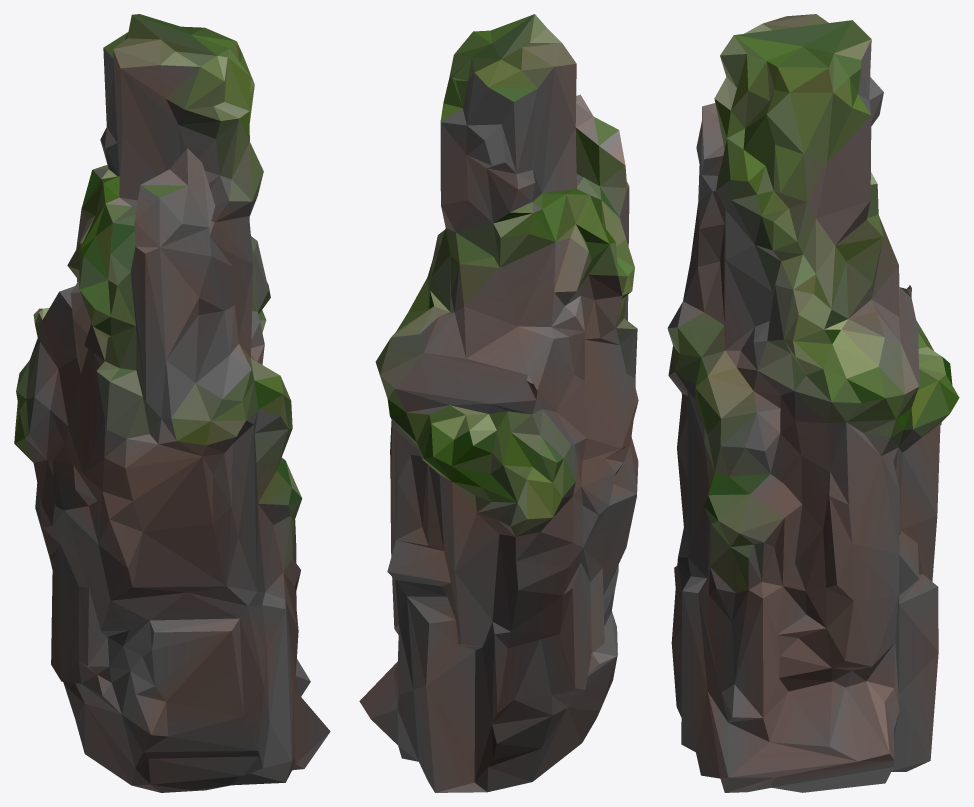
File: Spire_C-Foliage.fbx
The picture shows the model from 3 angles, left to right: view 1: azimuth 30°, elevation 25°; view 2: azimuth 150°, elevation 25°; view 3: azimuth 270°, elevation 25°; orthographic projection. The views are drawn at different scales.
Visible parts, largest first — view 1: Spire_C-Foliage; view 2: Spire_C-Foliage; view 3: Spire_C-Foliage.
Part boxes in pixels (box(x1,y1,x2,y2)): Spire_C-Foliage: box(14, 14, 330, 792); Spire_C-Foliage: box(359, 14, 638, 792); Spire_C-Foliage: box(667, 14, 959, 792).
Size of the model in its own units: 3126 by 9826 by 3559.
